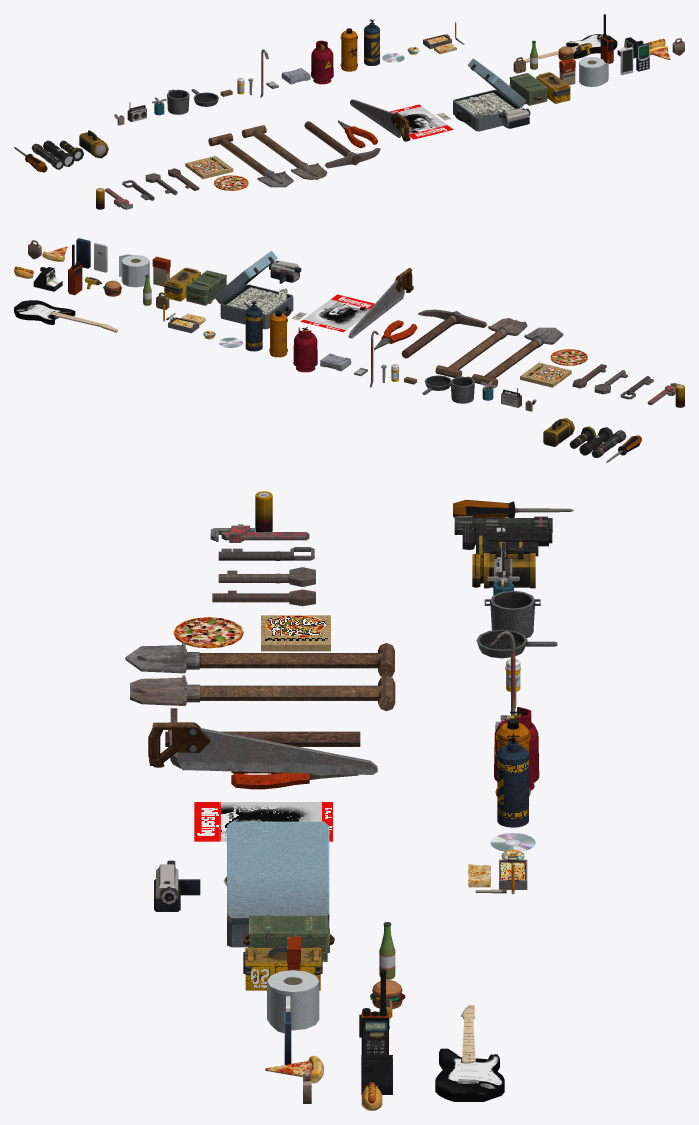
File: Misc.glb
3 renders of one model, top to bottom at view 1: azimuth 30°, elevation 25°; view 2: azimuth 150°, elevation 25°; view 3: azimuth 270°, elevation 25°, orthographic. The views are drawn at different scales.
Visible parts, largest first — view 1: Money_Case, Shovel_2, Shovel_1, Poster_Missing, Saw, Pickaxe, Gas_V3, Case, Toilet_Paper, Cube, Gas_V2, Toolbox (+15 smaller); view 2: Money_Case, Poster_Missing, Shovel_2, Shovel_1, Guitar, Saw, Pickaxe, Case, Gas_V3, Toilet_Paper, Cube, Gas_V1 (+17 smaller); view 3: Money_Case, Saw, Shovel_2, Shovel_1, Guitar, Poster_Missing, Toilet_Paper, Case, Gas_V1, Cube, Toolbox, Pickaxe (+16 smaller).
Part boxes in pixels (x1,y1,x2,y2): Money_Case: (453, 58, 526, 131); Shovel_2: (241, 125, 327, 180); Shovel_1: (208, 133, 293, 187); Poster_Missing: (390, 104, 453, 139); Saw: (350, 99, 410, 141); Pickaxe: (304, 121, 380, 168); Gas_V3: (311, 40, 333, 84); Case: (509, 73, 547, 105); Toilet_Paper: (579, 57, 608, 86); Cube: (185, 156, 233, 179); Gas_V2: (340, 28, 357, 71); Toolbox: (536, 72, 570, 103); Money_Case: (214, 250, 293, 329); Poster_Missing: (300, 294, 374, 332); Shovel_2: (435, 318, 527, 377); Shovel_1: (472, 327, 563, 387); Guitar: (14, 300, 117, 332); Saw: (348, 268, 413, 338); Pickaxe: (401, 309, 487, 358); Case: (186, 270, 226, 305); Gas_V3: (293, 327, 317, 372); Toilet_Paper: (119, 254, 149, 287); Cube: (520, 362, 571, 387); Gas_V1: (245, 301, 262, 351); Money_Case: (223, 821, 329, 947); Saw: (148, 722, 377, 774); Shovel_2: (130, 675, 395, 711); Shovel_1: (125, 642, 394, 676); Guitar: (435, 1005, 504, 1101); Poster_Missing: (194, 802, 332, 841); Toilet_Paper: (267, 970, 319, 1033); Case: (242, 915, 334, 961); Gas_V1: (497, 733, 528, 827); Cube: (261, 615, 330, 651); Toolbox: (243, 946, 322, 990); Pickaxe: (165, 708, 360, 768).
Bounding box in the file's own units: 30.14 × 3.34 × 9.63.
57 materials, 57 textured.
